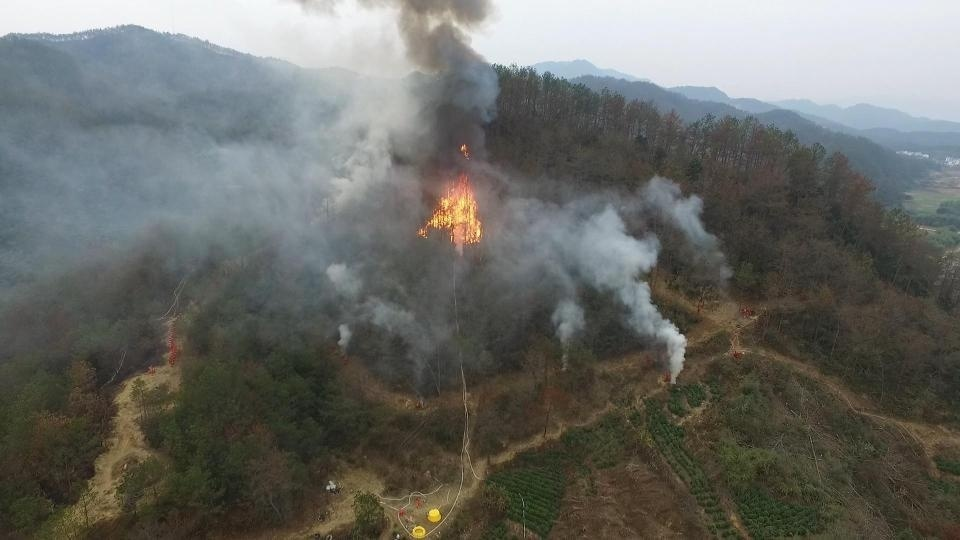fire: (408, 142, 493, 252)
